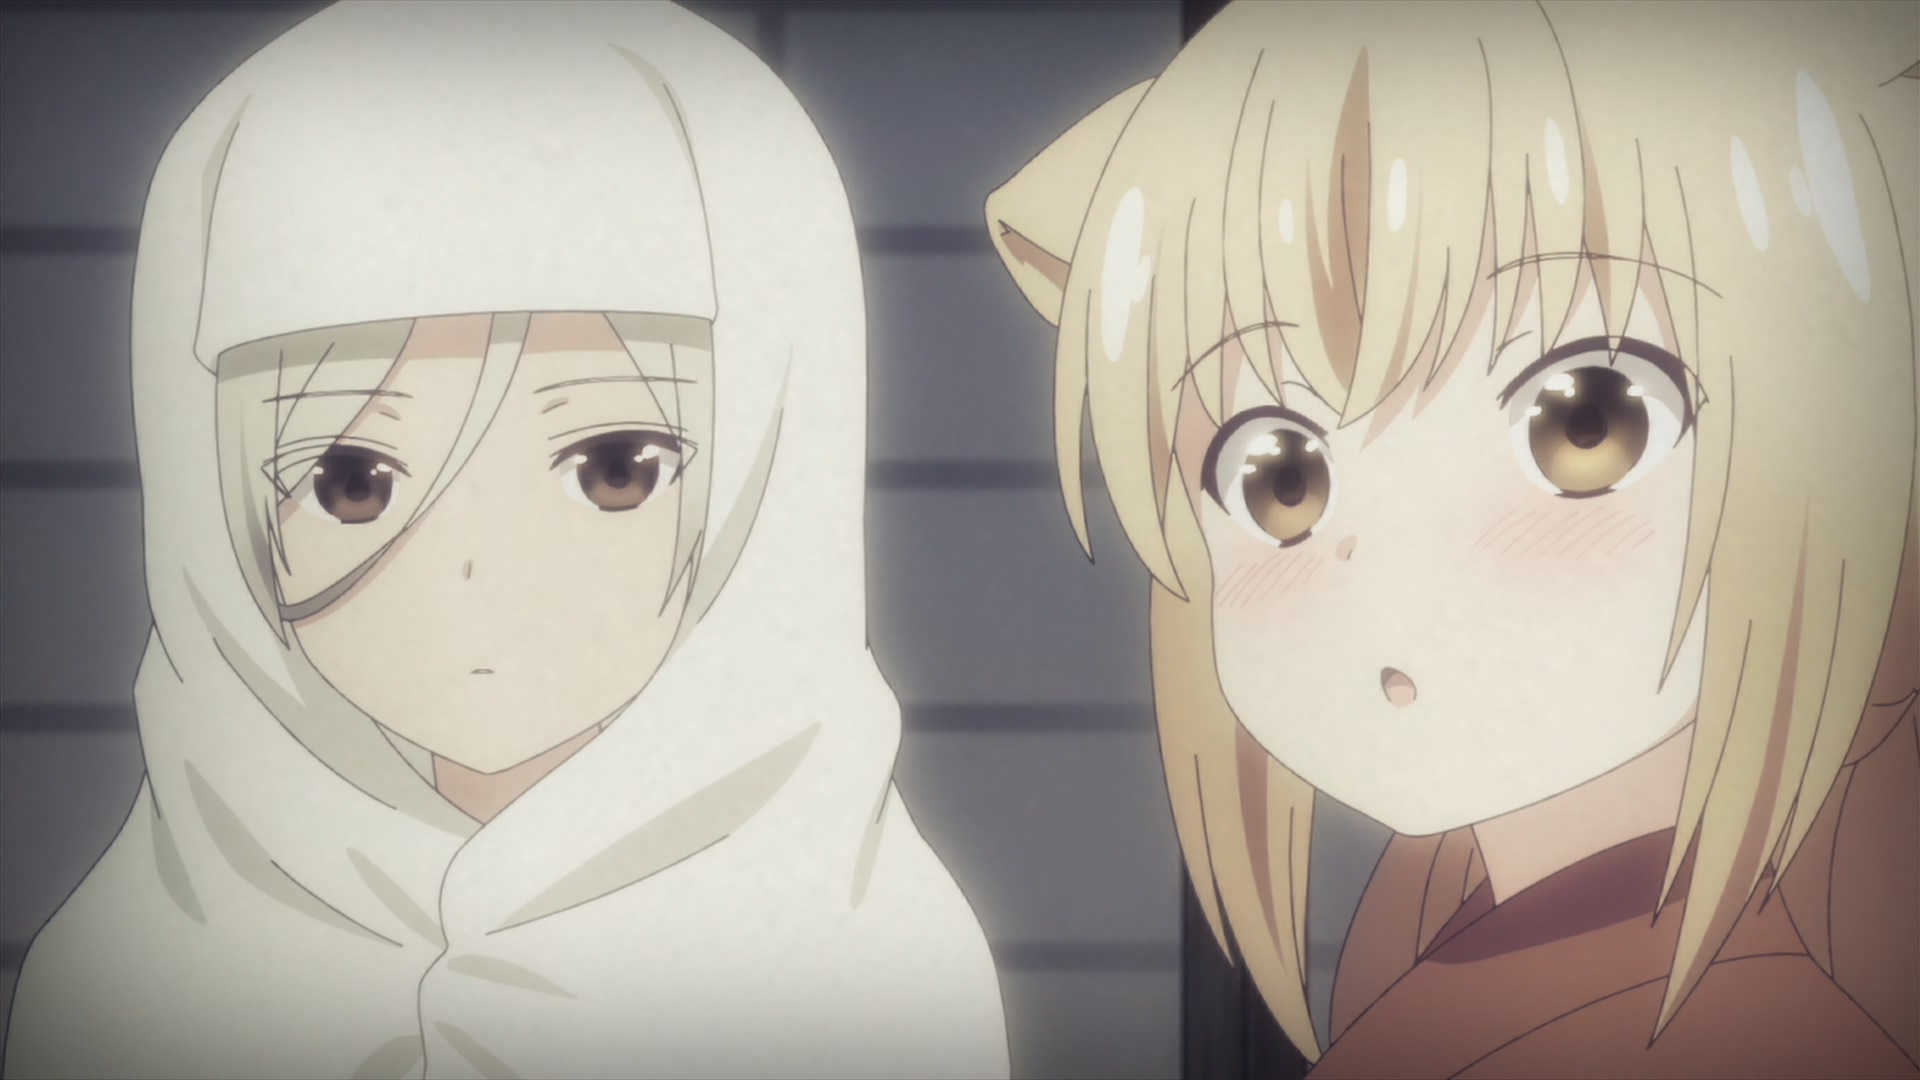八百比丘尼: (1, 1, 1010, 1080)
柚: (985, 1, 1920, 1080)
